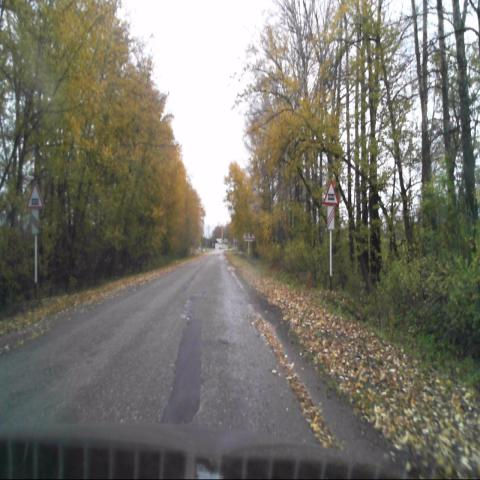1_1: (28, 182, 44, 210), (324, 180, 338, 205)
